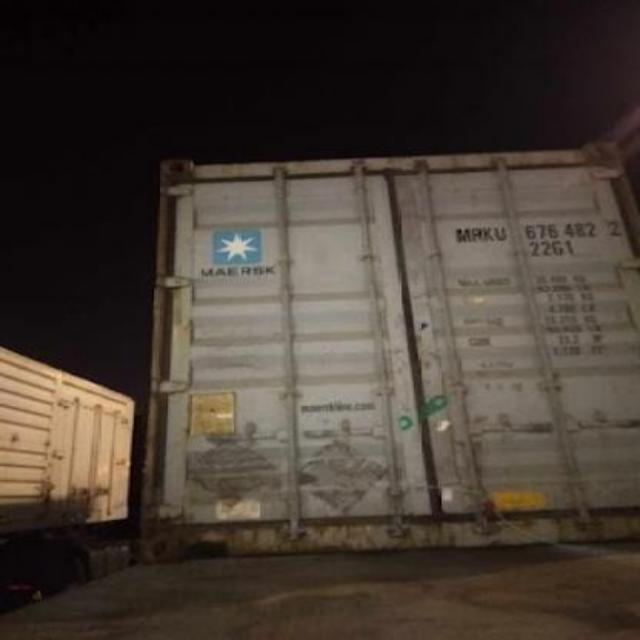2: (606, 219, 624, 235), (586, 222, 598, 236)
4: (562, 222, 576, 240)
6: (548, 225, 560, 241), (524, 226, 536, 238)
7: (536, 224, 548, 240)
8: (574, 222, 586, 236)
K: (482, 226, 494, 242)
M: (454, 228, 472, 242)
R: (472, 227, 482, 243)
U: (494, 224, 508, 242)
